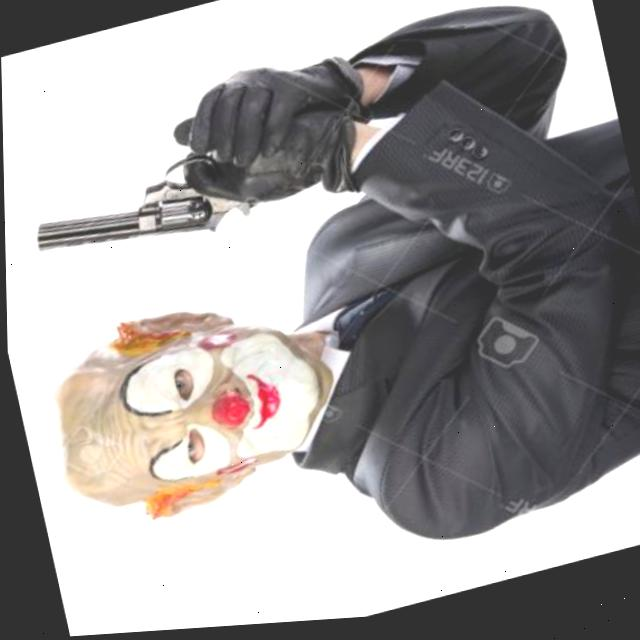pistol: (1, 36, 375, 281)
